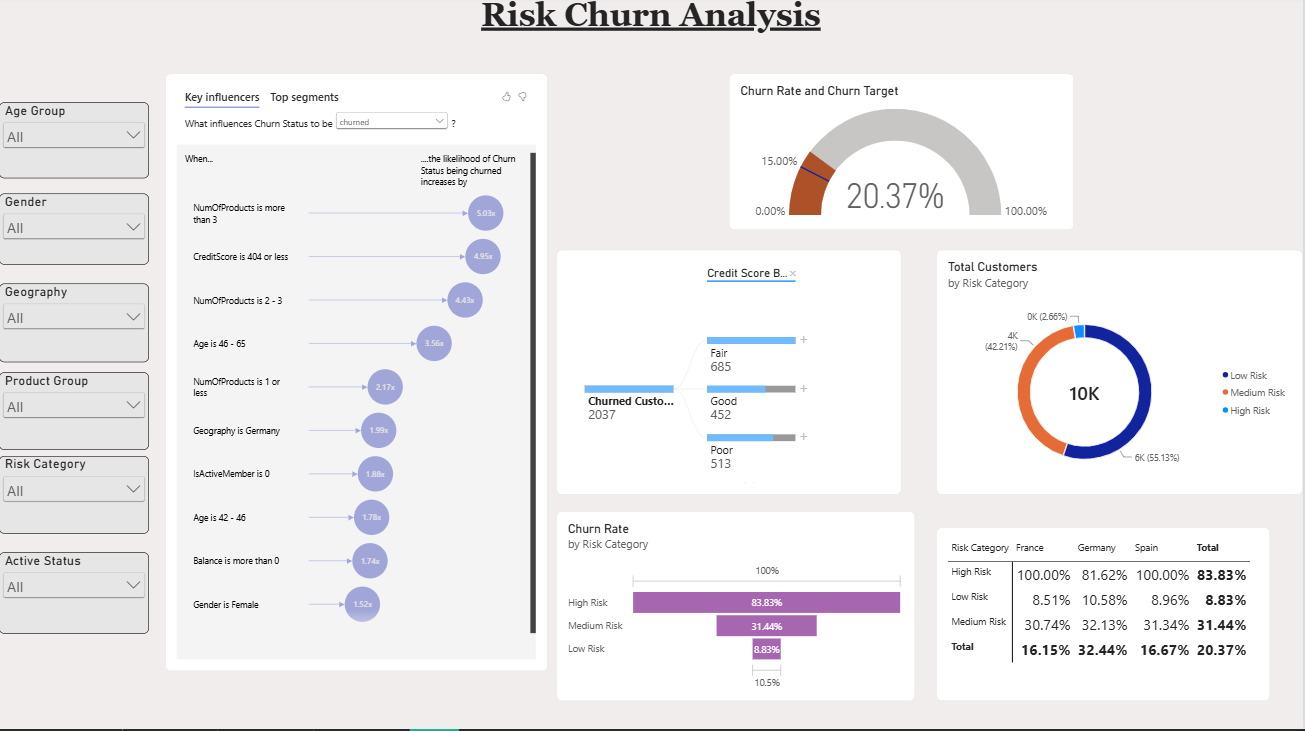

The dashboard page shown, as its layout file describes it:
{"tool":"powerbi","page":{"name":"Page 3","canvas":[1920,1080],"ordinal":2},"visuals":[{"type":"donutChart","fields":{"Category":["Churn_Modelling.Risk Category"],"Y":["Churn_Modelling.Total Customers"]},"box":[1328.8,33.1,590.8,311],"z":0},{"type":"pivotTable","fields":{"Columns":["Churn_Modelling.Geography"],"Rows":["Churn_Modelling.Risk Category"],"Values":["Churn_Modelling.Churn Rate"]},"box":[1393.3,388.3,491.4,255.8],"z":1},{"type":"funnel","fields":{"Category":["Churn_Modelling.Risk Category"],"Y":["Churn_Modelling.Churn Rate"]},"box":[1096.9,760.1,528.2,279.8],"z":2},{"type":"gauge","fields":{"TargetValue":["Churn_Modelling.Churn Target"],"Y":["Churn_Modelling.Churn Rate"]},"box":[911,114.1,371.8,230.1],"z":3},{"type":"keyDriversVisual","fields":{"ExplainBy":["Churn_Modelling.Age","Churn_Modelling.IsActiveMember","Churn_Modelling.NumOfProducts","Churn_Modelling.Balance","Churn_Modelling.Gender","Churn_Modelling.CreditScore","Churn_Modelling.Geography"],"Target":["Churn_Modelling.Churn Status"]},"box":[244.8,114.1,563.2,879.8],"z":4},{"type":"decompositionTreeVisual","fields":{"Analyze":["Churn_Modelling.Churned Customers"],"ExplainBy":["Churn_Modelling.Credit Score Band","Churn_Modelling.Tenure","Churn_Modelling.Product Group","Churn_Modelling.Age Group","Churn_Modelling.Geography","Churn_Modelling.Gender","Churn_Modelling.Active Status"]},"box":[820.9,373.6,508,360.7],"z":5},{"type":"slicer","fields":{"Values":["Churn_Modelling.Geography"]},"box":[0,344.2,220.9,90.2],"z":6},{"type":"slicer","fields":{"Values":["Churn_Modelling.Gender"]},"box":[0,239.3,220.9,104.9],"z":7},{"type":"slicer","fields":{"Values":["Churn_Modelling.Age Group"]},"box":[0,127,220.9,112.3],"z":8},{"type":"slicer","fields":{"Values":["Churn_Modelling.Active Status"]},"box":[0,681,220.9,119.6],"z":9},{"type":"slicer","fields":{"Values":["Churn_Modelling.Product Group"]},"box":[0,449.1,220.9,114.1],"z":10},{"type":"slicer","fields":{"Values":["Churn_Modelling.Risk Category"]},"box":[0,563.2,220.9,114.1],"z":11}]}

Visuals, with their boxes in screenshot pixels (x1, y1, x2, y2), scaled from the page's 1920x1080 canvas onto the 1305x731 screenshot:
donutChart - Churn_Modelling.Risk Category x Churn_Modelling.Total Customers: detection(903, 22, 1304, 233)
pivotTable - Churn_Modelling.Geography x Churn_Modelling.Risk Category: detection(947, 263, 1281, 436)
funnel - Churn_Modelling.Risk Category x Churn_Modelling.Churn Rate: detection(746, 514, 1105, 704)
gauge - Churn_Modelling.Churn Target x Churn_Modelling.Churn Rate: detection(619, 77, 872, 233)
keyDriversVisual - Churn_Modelling.Age x Churn_Modelling.IsActiveMember: detection(166, 77, 549, 673)
decompositionTreeVisual - Churn_Modelling.Churned Customers x Churn_Modelling.Credit Score Band: detection(558, 253, 903, 497)
slicer - Churn_Modelling.Geography: detection(0, 233, 150, 294)
slicer - Churn_Modelling.Gender: detection(0, 162, 150, 233)
slicer - Churn_Modelling.Age Group: detection(0, 86, 150, 162)
slicer - Churn_Modelling.Active Status: detection(0, 461, 150, 542)
slicer - Churn_Modelling.Product Group: detection(0, 304, 150, 381)
slicer - Churn_Modelling.Risk Category: detection(0, 381, 150, 458)
